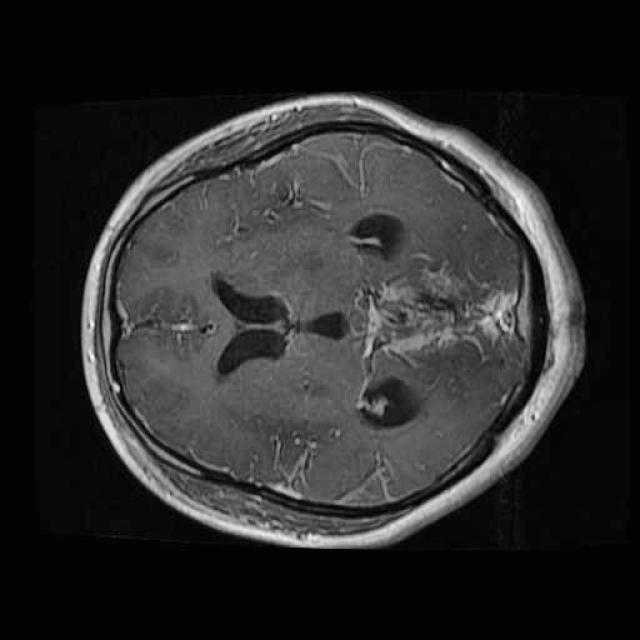Non-Tumor: (351, 254, 536, 375)
